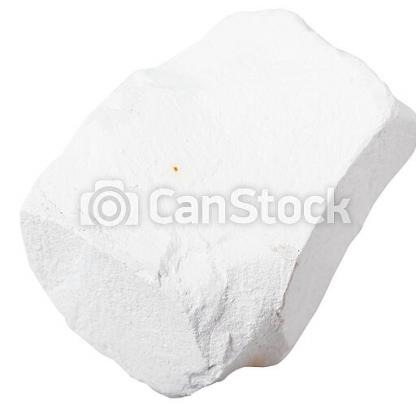Sedimentary_Chalk: (13, 5, 415, 398)
